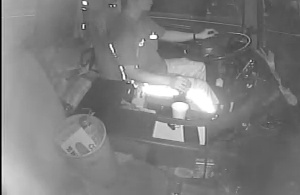cup: (168, 99, 191, 121)
